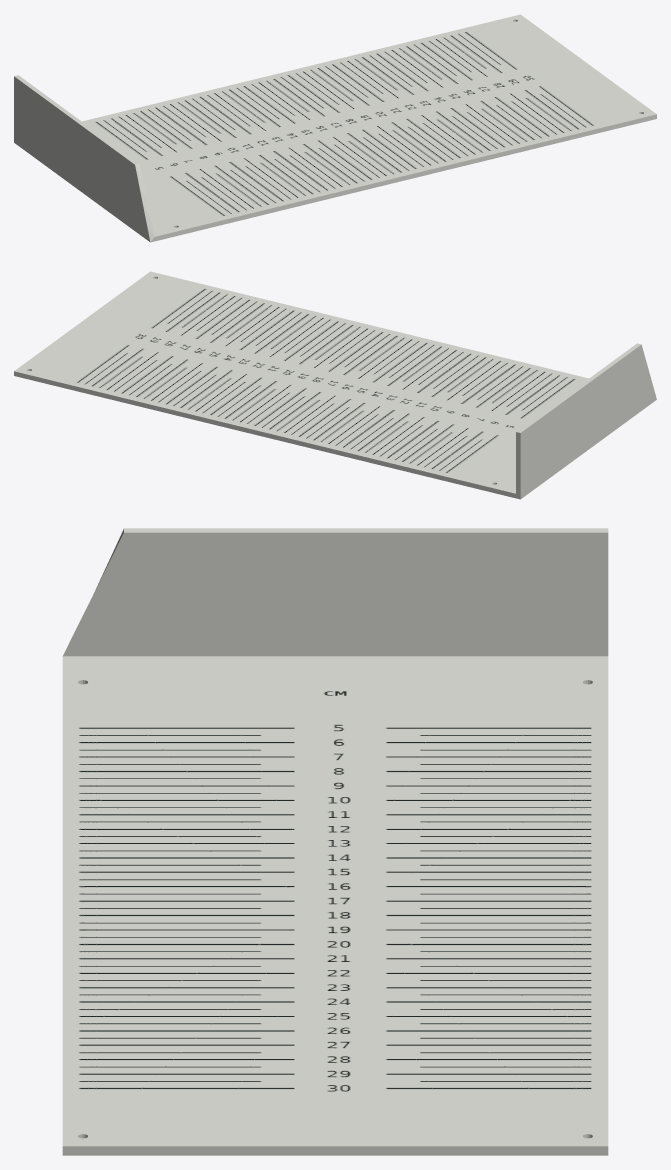
The picture shows the model from 3 angles, top to bottom: view 1: azimuth 30°, elevation 25°; view 2: azimuth 150°, elevation 25°; view 3: azimuth 270°, elevation 25°; orthographic projection. The views are drawn at different scales.
Parts seen in each view (by area): view 1: NEW666_FishMeasuringBoard; view 2: NEW666_FishMeasuringBoard; view 3: NEW666_FishMeasuringBoard.
Boxes of the visible parts, <box> form: NEW666_FishMeasuringBoard: <box>14,14,656,242</box>; NEW666_FishMeasuringBoard: <box>14,271,656,499</box>; NEW666_FishMeasuringBoard: <box>62,528,608,1155</box>.
Bounding box in the file's own units: 0.343 × 0.043 × 0.16.
1 material, 1 textured.
